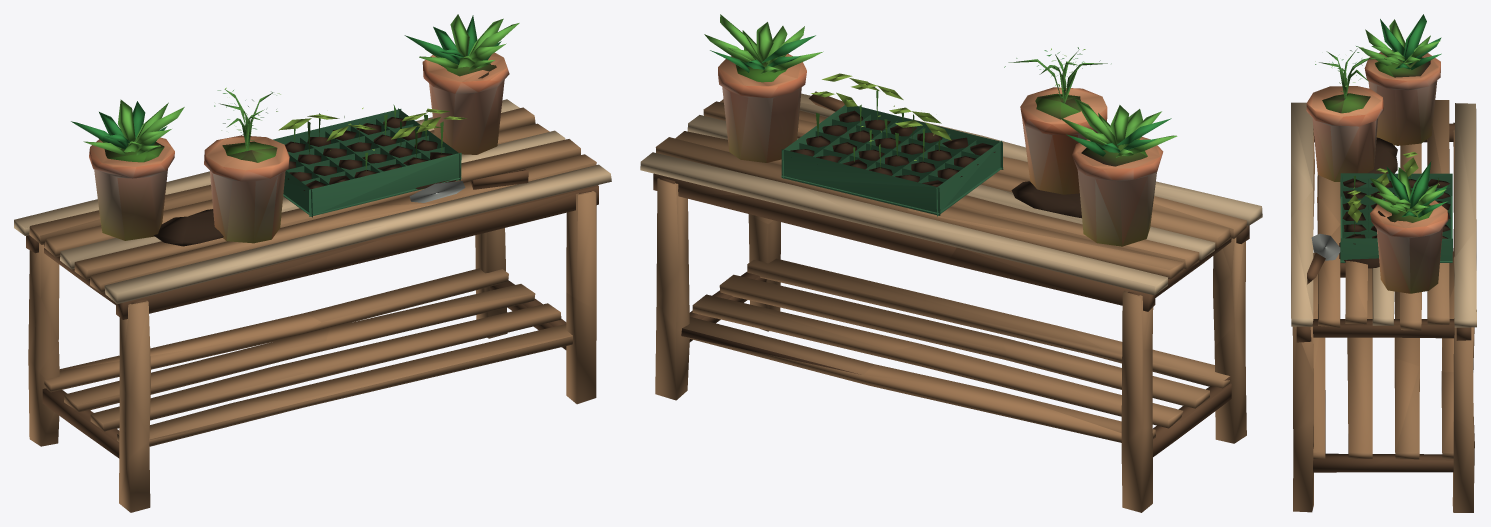
Rendered from canopy_slat_bench_lod2.glb.
3 views of the same model, side by side, from view 1: azimuth 30°, elevation 25°; view 2: azimuth 150°, elevation 25°; view 3: azimuth 270°, elevation 25° (orthographic). The views are drawn at different scales.
Visible parts, largest first — view 1: canopy_slat_bench.001; view 2: canopy_slat_bench.001; view 3: canopy_slat_bench.001.
Part boxes in pixels (x1,y1,x2,y2): canopy_slat_bench.001: [14, 14, 611, 512]; canopy_slat_bench.001: [640, 14, 1262, 512]; canopy_slat_bench.001: [1291, 14, 1476, 512].
Bounding box in the file's own units: 16 × 10.91 × 5.79.
